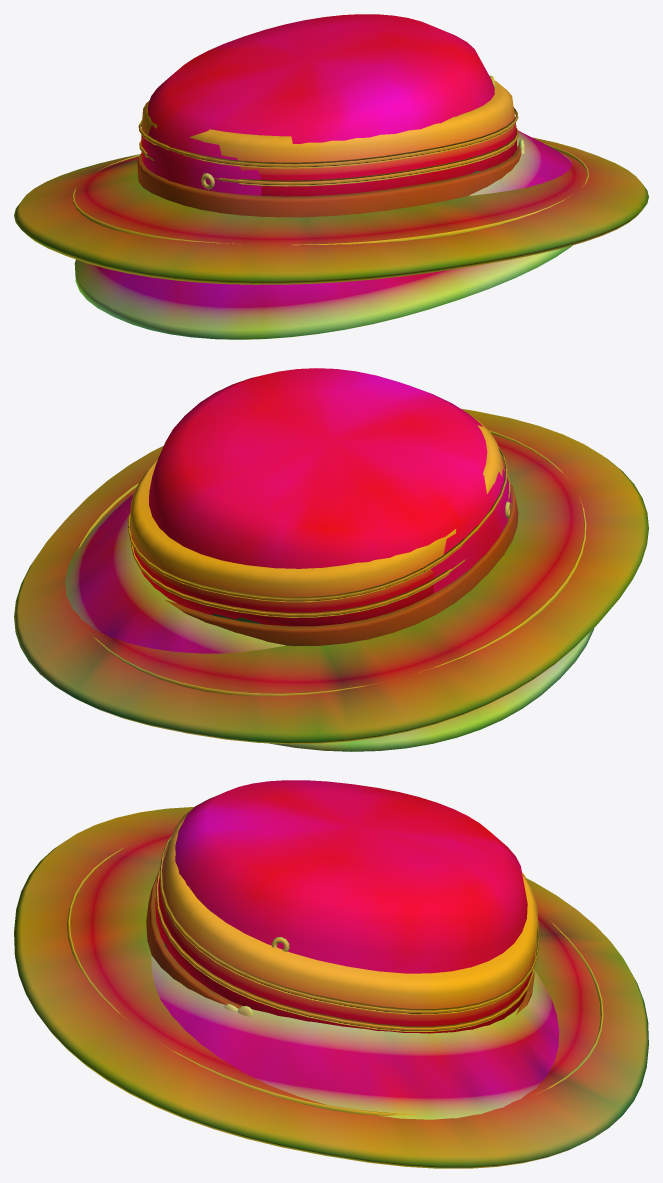
File: TouristLooks.fbx
3 renders of one model, top to bottom at view 1: azimuth 30°, elevation 25°; view 2: azimuth 150°, elevation 25°; view 3: azimuth 270°, elevation 25°, orthographic. The views are drawn at different scales.
Parts seen in each view (by area): view 1: Look_Straw_Hat, Look_Bucket_Hat; view 2: Look_Straw_Hat, Look_Bucket_Hat; view 3: Look_Straw_Hat, Look_Bucket_Hat.
Part boxes in pixels (x1,y1,x2,y2): Look_Straw_Hat: [14, 80, 648, 284]; Look_Bucket_Hat: [74, 14, 572, 339]; Look_Straw_Hat: [14, 408, 648, 744]; Look_Bucket_Hat: [65, 368, 593, 751]; Look_Straw_Hat: [14, 796, 648, 1168]; Look_Bucket_Hat: [151, 780, 559, 1119].
Size of the model in its own units: 1.01 by 0.4082 by 0.9456.
